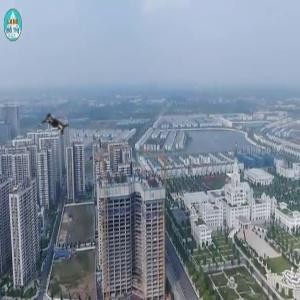drone: (10, 78, 99, 167)
